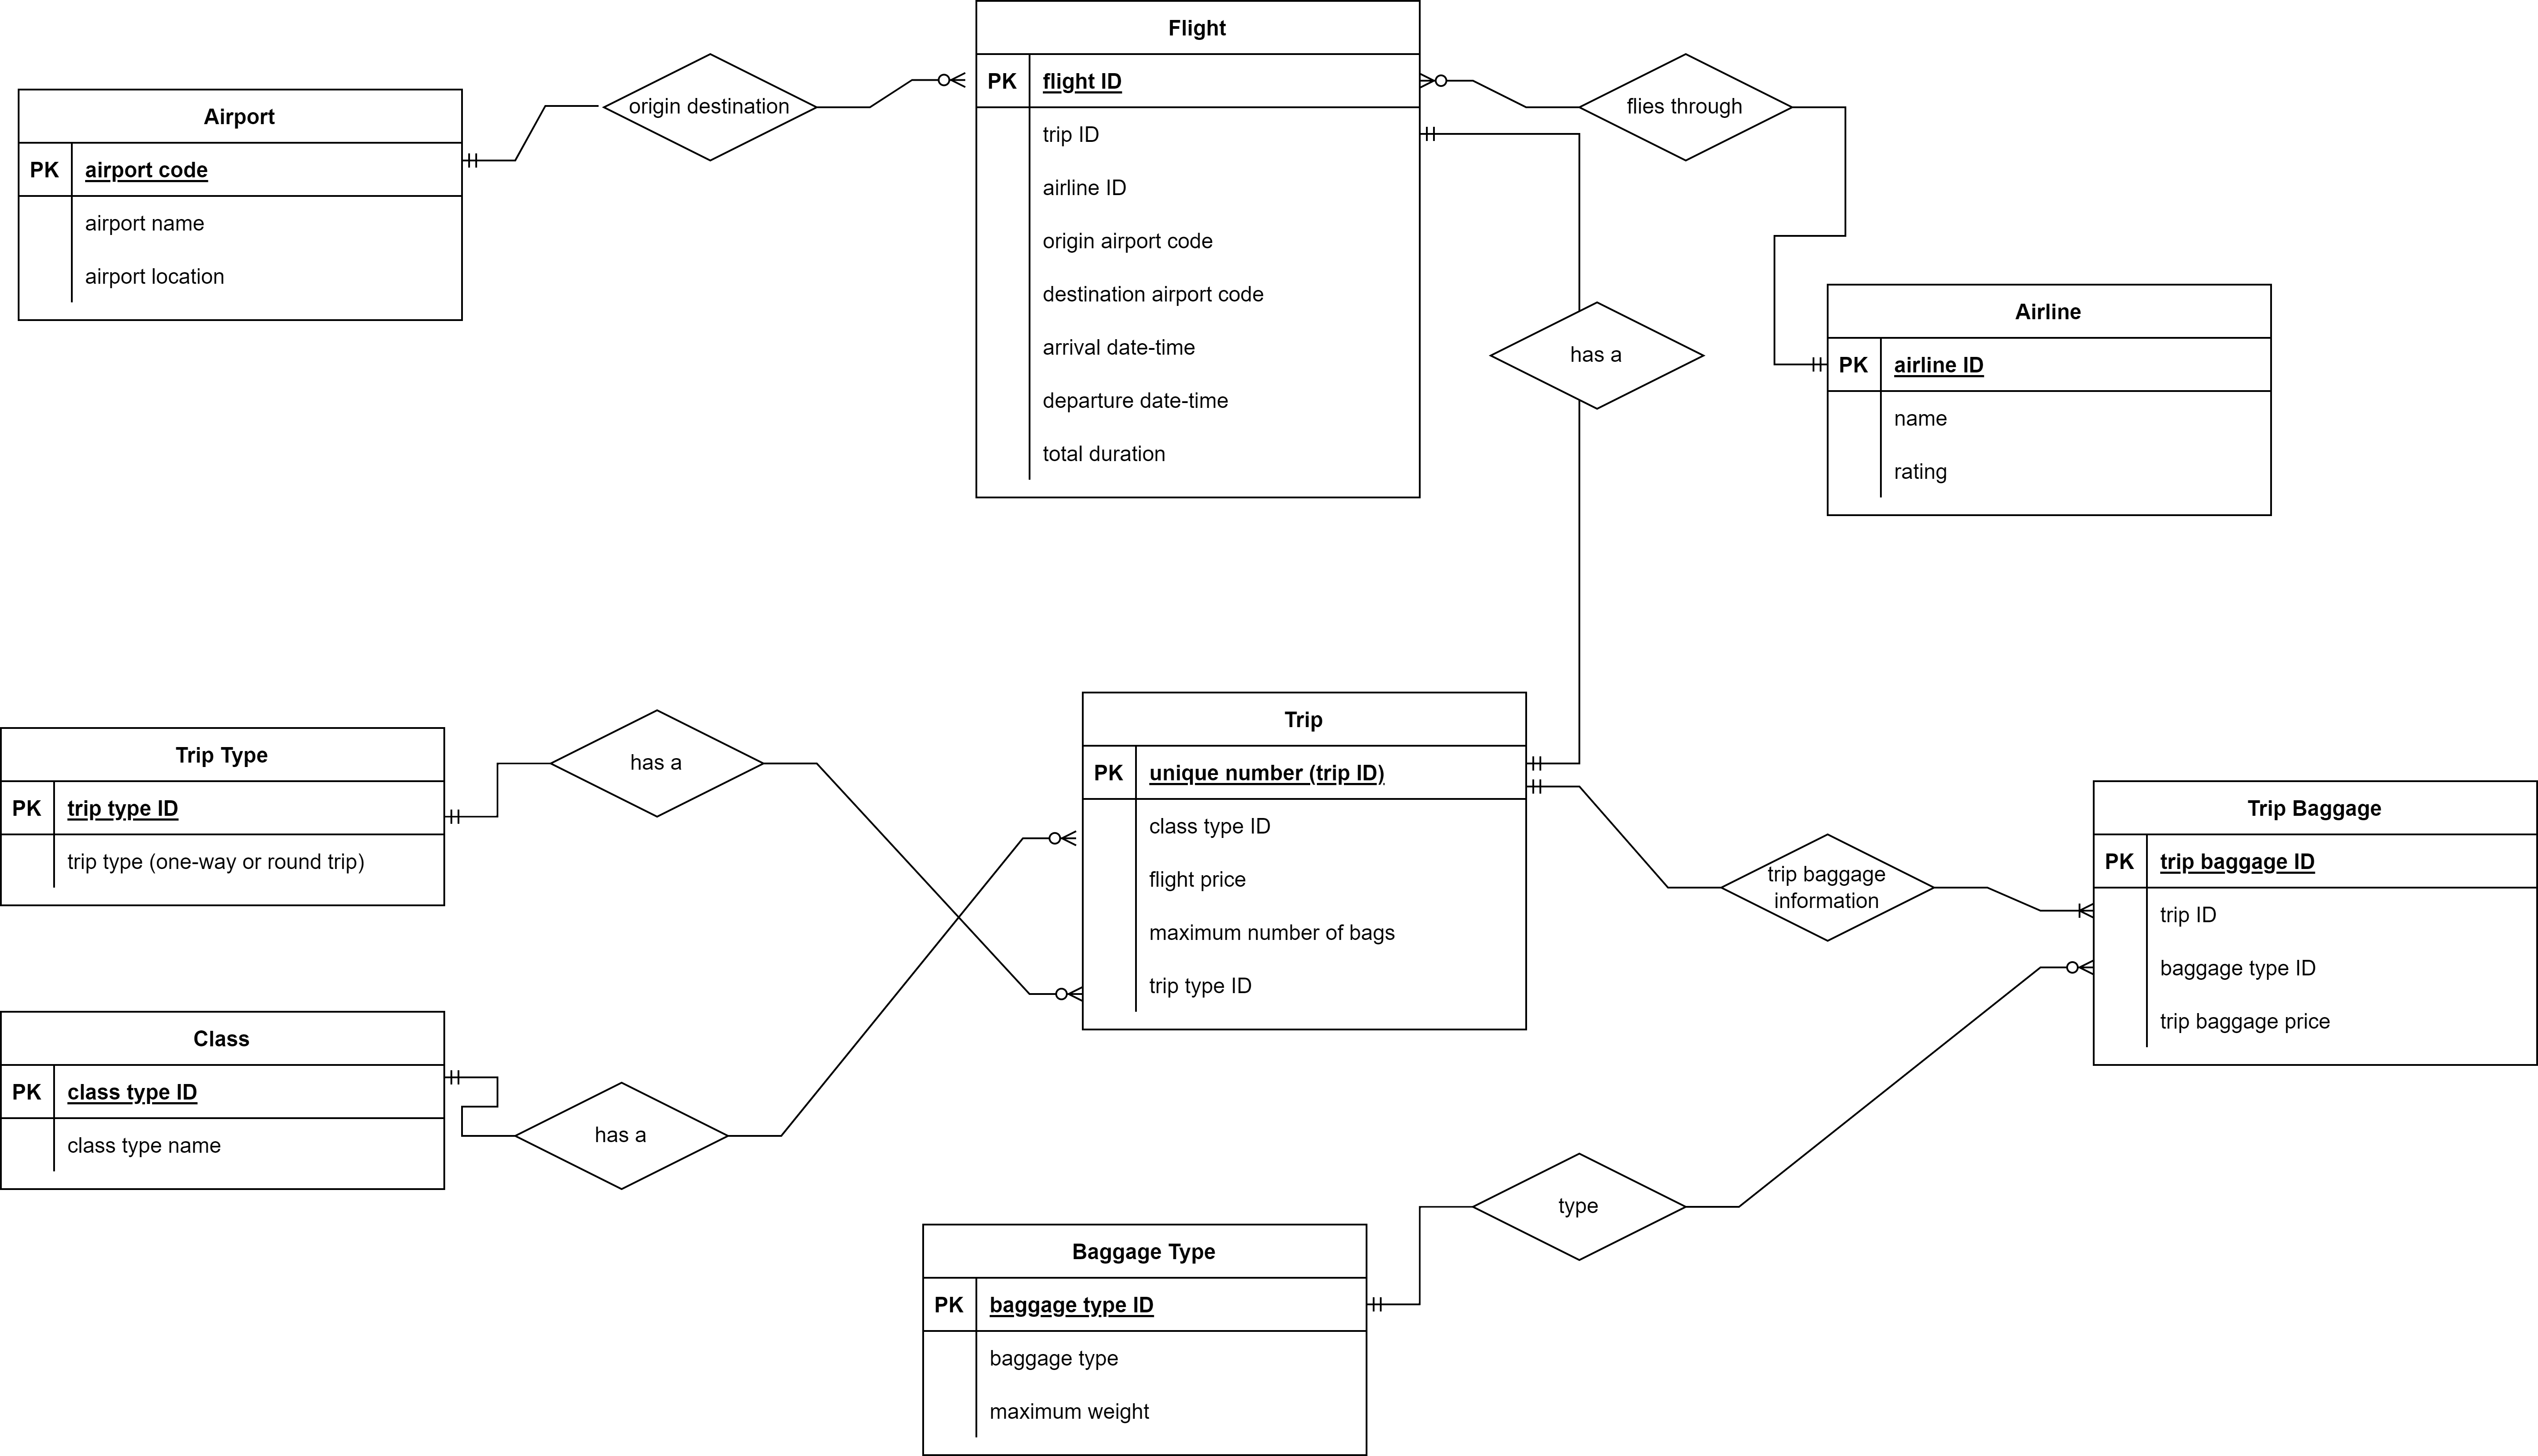entity: (976, 2, 1421, 495), (1082, 692, 1525, 1029), (2092, 778, 2533, 1064), (924, 1224, 1368, 1454), (16, 89, 458, 319), (1830, 288, 2271, 514), (2, 1010, 444, 1187), (3, 729, 443, 905)
many: (2038, 889, 2095, 931), (912, 63, 971, 96), (2039, 952, 2092, 987), (1025, 821, 1082, 851), (1419, 63, 1461, 103), (1030, 976, 1082, 1008)
one: (443, 795, 486, 842), (441, 1057, 486, 1097), (1365, 1289, 1419, 1322), (1419, 115, 1466, 152), (1783, 347, 1827, 384), (1522, 746, 1578, 774), (460, 138, 500, 176), (1518, 772, 1581, 797)
rel: (547, 708, 765, 823), (596, 52, 816, 164), (1489, 298, 1705, 408), (1581, 54, 1794, 166), (1468, 1153, 1682, 1262), (519, 1079, 727, 1189), (1726, 835, 1938, 942)
